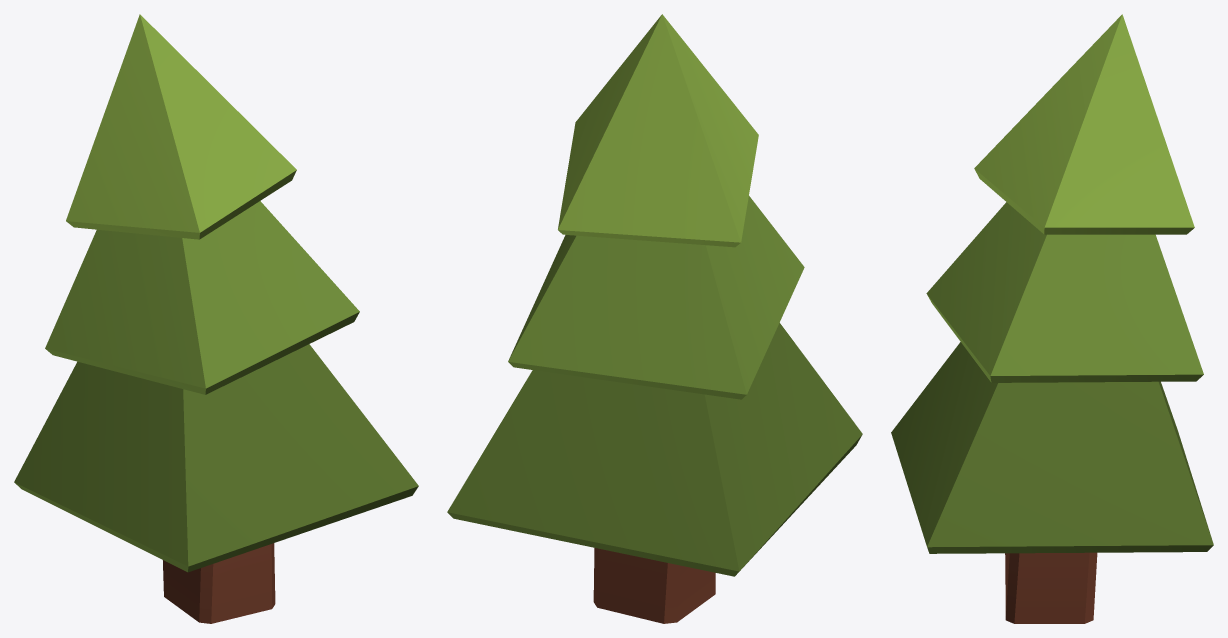
File: SM_Pine_03.fbx
The picture shows the model from 3 angles, left to right: view 1: azimuth 30°, elevation 25°; view 2: azimuth 150°, elevation 25°; view 3: azimuth 270°, elevation 25°; orthographic projection. The views are drawn at different scales.
Visible parts, largest first — view 1: SM_Pine_03; view 2: SM_Pine_03; view 3: SM_Pine_03.
Part boxes in pixels (<box>): SM_Pine_03: <box>14,14,418,623</box>; SM_Pine_03: <box>447,14,862,623</box>; SM_Pine_03: <box>891,14,1213,623</box>.
Bounding box in the file's own units: 16.56 × 32.29 × 16.57.
